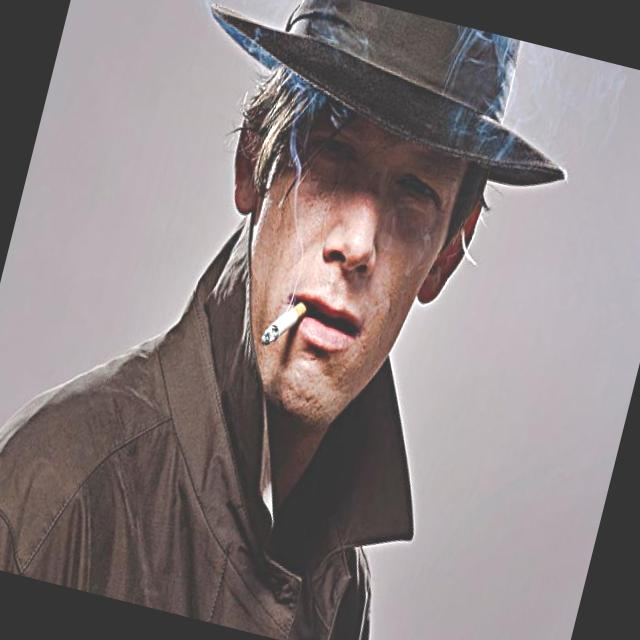smoke: (251, 276, 323, 364)
